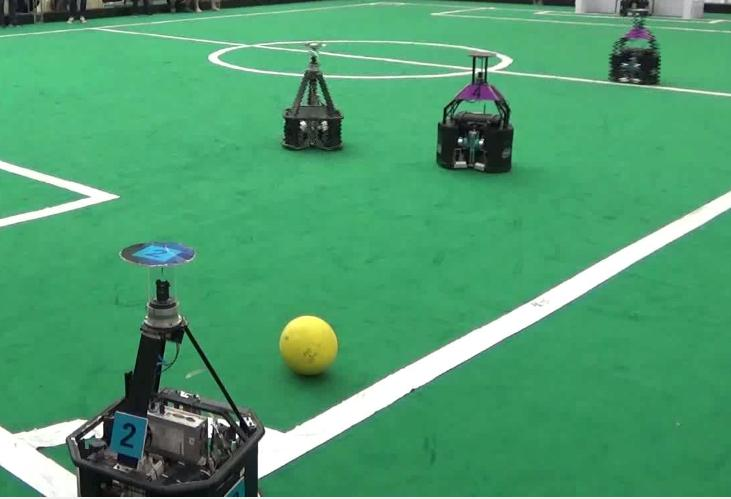robot: (66, 236, 263, 497), (434, 48, 517, 175), (275, 40, 348, 156), (604, 7, 665, 89)
